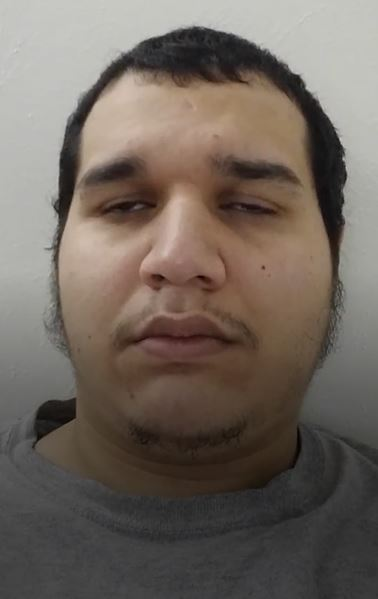Half Asleep: (73, 169, 318, 243)
